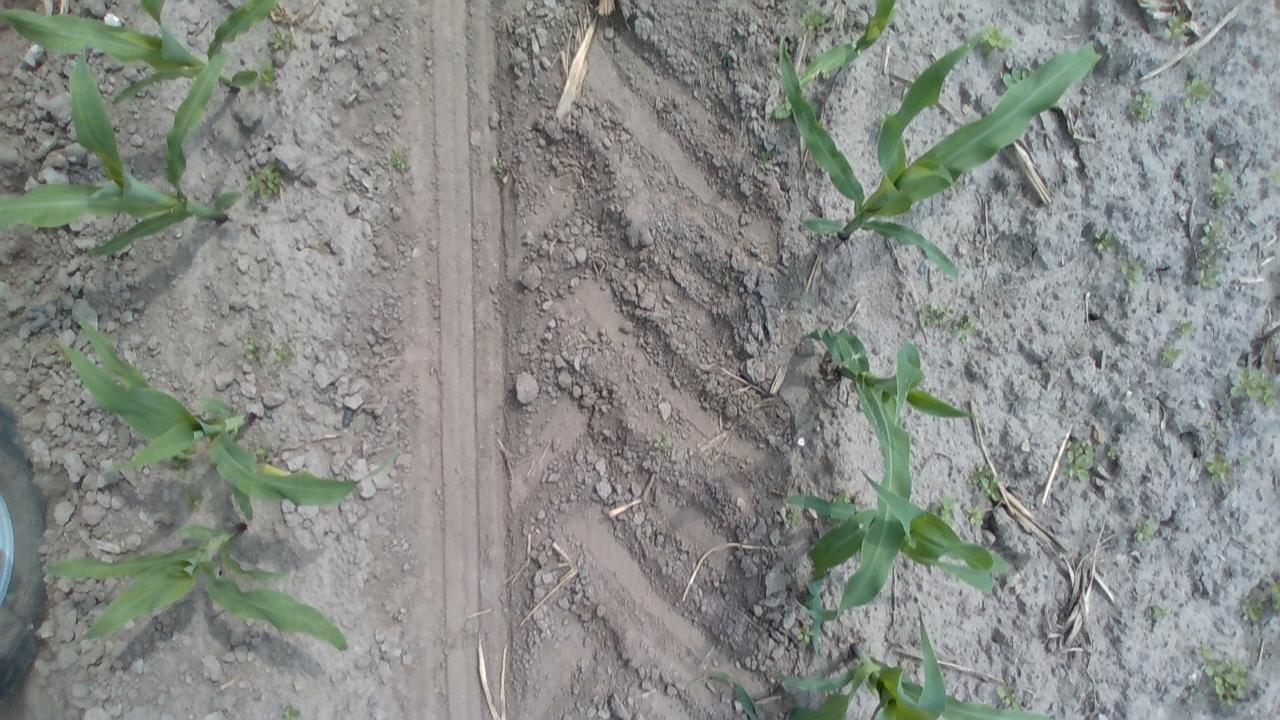Maize: (766, 35, 1114, 272), (49, 301, 406, 511), (802, 313, 976, 619), (0, 55, 252, 258), (46, 516, 356, 664), (704, 605, 1060, 720), (777, 473, 1005, 626), (0, 0, 281, 103), (782, 2, 909, 93)
Weeds: (1194, 642, 1256, 708), (1198, 220, 1240, 297), (910, 302, 979, 341), (1223, 361, 1280, 408), (243, 158, 290, 200), (1242, 572, 1280, 622), (964, 460, 1006, 505), (1061, 435, 1096, 482), (1158, 2, 1196, 43), (1179, 74, 1217, 114), (788, 0, 832, 34), (1208, 169, 1236, 214), (978, 25, 1012, 62), (242, 63, 279, 96), (995, 61, 1037, 90), (1118, 252, 1145, 294), (1129, 90, 1160, 125), (1204, 450, 1234, 485), (994, 680, 1026, 712), (488, 153, 519, 186), (793, 622, 826, 652), (1152, 341, 1185, 370), (932, 494, 958, 530), (652, 425, 679, 458), (1090, 228, 1120, 257), (240, 334, 270, 362), (388, 143, 413, 176), (1147, 600, 1175, 628), (270, 28, 299, 54), (1133, 517, 1159, 545), (274, 337, 300, 364), (172, 446, 198, 472), (962, 504, 986, 532), (756, 148, 780, 174), (183, 485, 206, 512), (1206, 418, 1236, 437), (774, 94, 794, 122), (278, 703, 308, 720), (824, 491, 854, 508), (1231, 451, 1254, 472), (780, 508, 804, 528), (1172, 319, 1196, 338), (1110, 444, 1127, 466), (250, 446, 274, 460), (1268, 166, 1280, 194)
